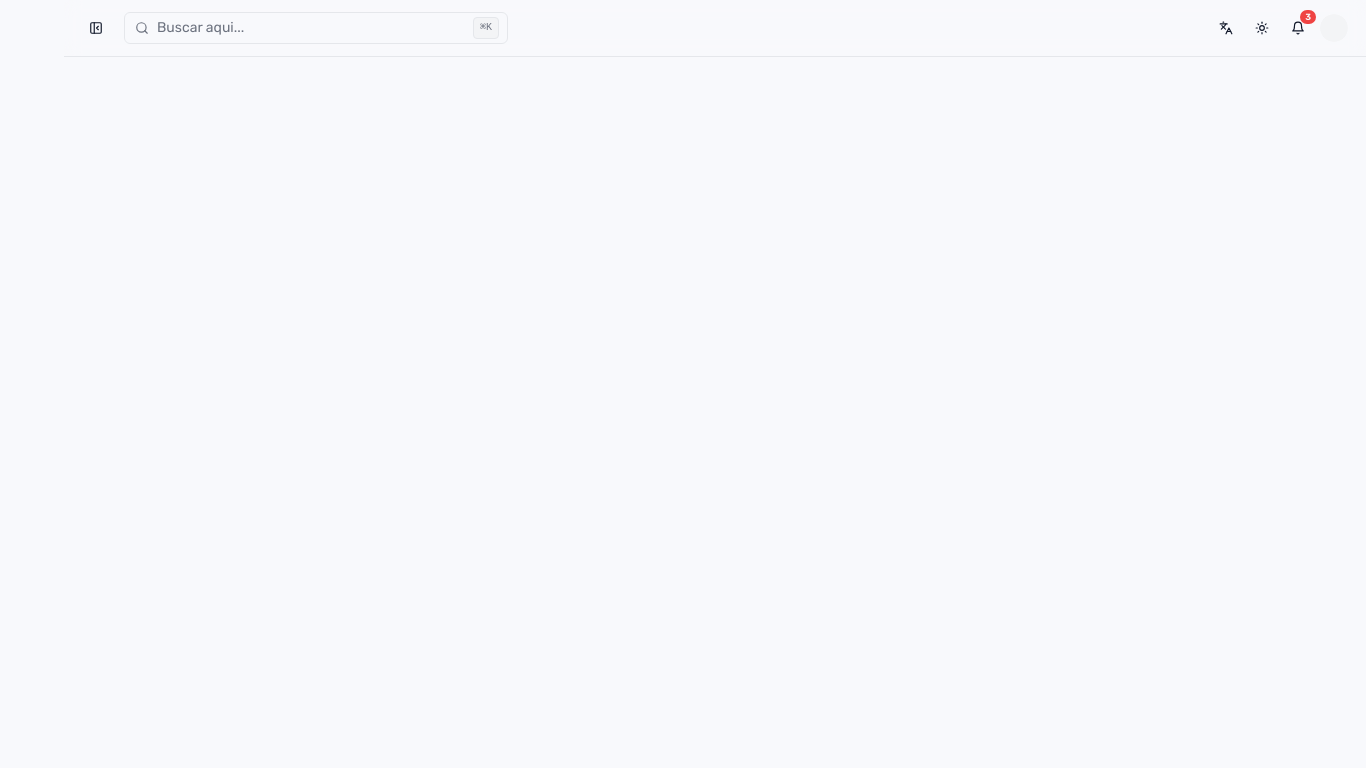
Scenario: global search › says so when nothing matches
The image size is (1366, 768).
Click the button "Buscar aqui... ⌘K" at (201, 28), box [124,12,508,44]
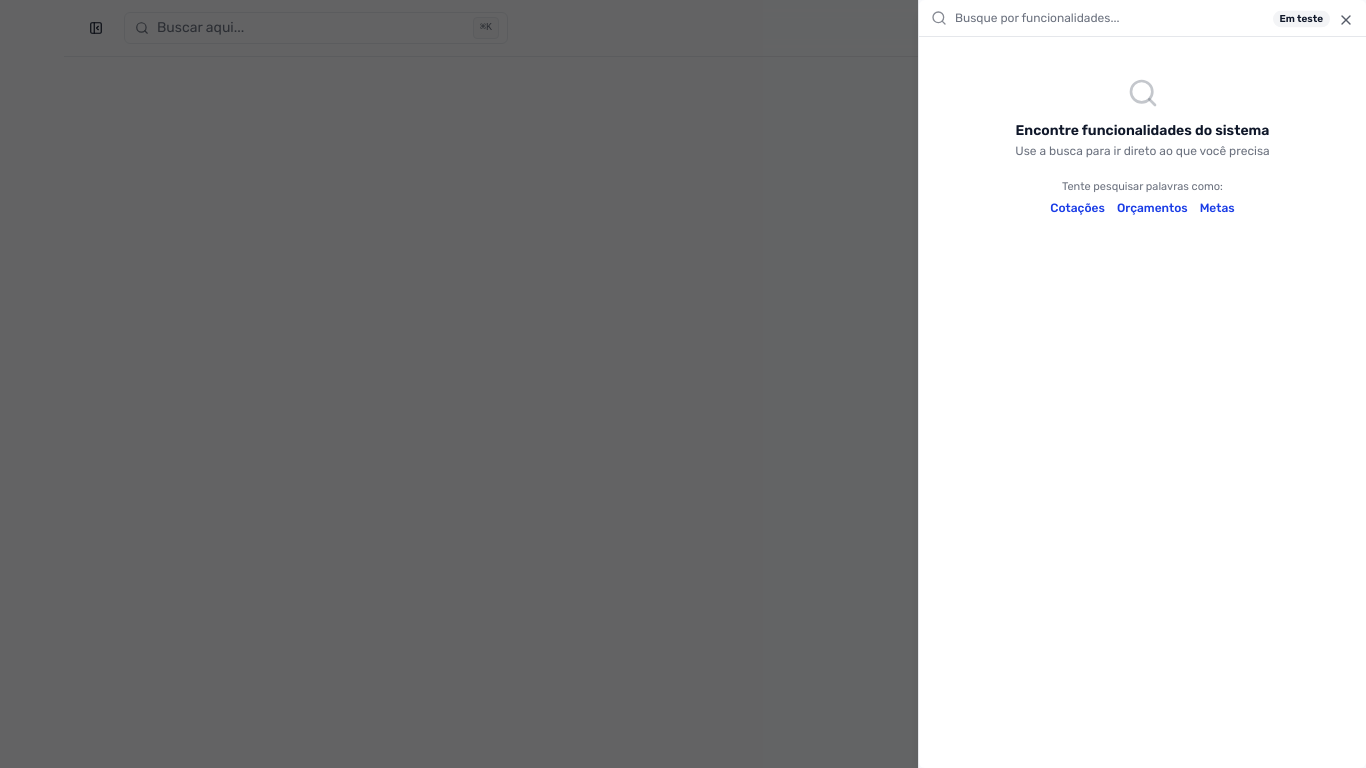
Type "zzzzz" into the dropdown at (1154, 18), box [955,0,1354,36]
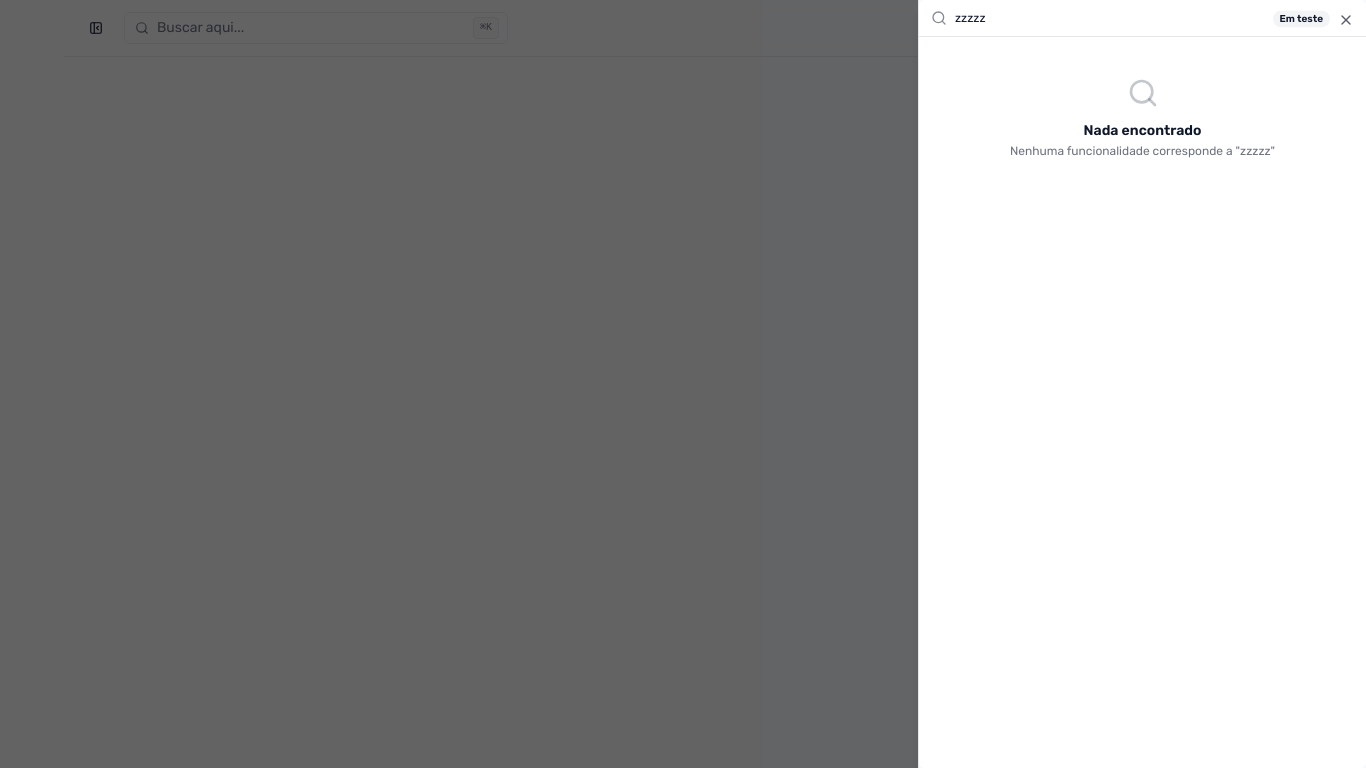
Expected: the text "Nada encontrado" is shown, [1084,121,1202,141]
